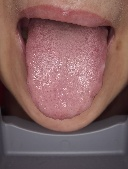tongue: (24, 32, 106, 122)
